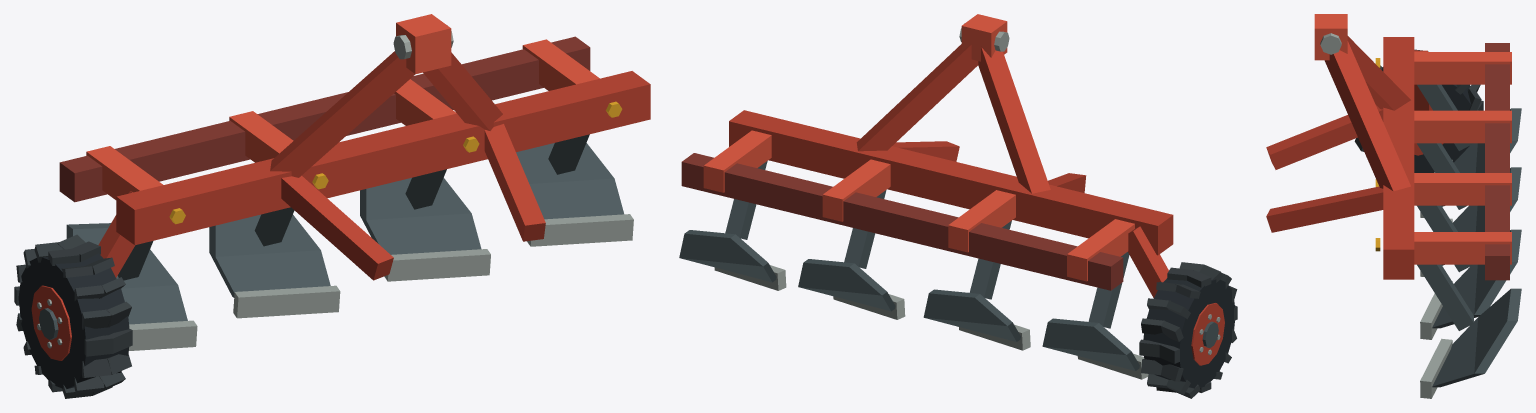
The model's file is plow.glb.
The picture shows the model from 3 angles, left to right: view 1: azimuth 30°, elevation 25°; view 2: azimuth 150°, elevation 25°; view 3: azimuth 270°, elevation 25°; orthographic projection. The views are drawn at different scales.
Visible parts, largest first — view 1: body__red.001, body__metal.004, body__red_dark.001, body__steel.002, body__red2.002, depth_wheel__tread, depth_wheel__rubber, depth_wheel__red, body__yellow.002; view 2: body__red.001, body__metal.004, body__red_dark.001, body__red2.002, depth_wheel__tread, depth_wheel__rubber, body__steel.002, depth_wheel__red; view 3: body__red.001, body__red2.002, body__metal.004, body__red_dark.001, body__steel.002, depth_wheel__rubber, depth_wheel__tread.
Part boxes in pixels (left/top/right/bottom): body__red.001: left=98, top=51, right=650, bottom=280; body__metal.004: left=66, top=134, right=623, bottom=324; body__red_dark.001: left=59, top=36, right=590, bottom=202; body__steel.002: left=129, top=25, right=633, bottom=350; body__red2.002: left=86, top=14, right=599, bottom=199; depth_wheel__tread: left=14, top=234, right=132, bottom=398; depth_wheel__rubber: left=18, top=253, right=129, bottom=388; depth_wheel__red: left=31, top=285, right=71, bottom=360; body__yellow.002: left=169, top=101, right=622, bottom=224; body__red.001: left=729, top=44, right=1173, bottom=297; body__metal.004: left=679, top=161, right=1139, bottom=370; body__red_dark.001: left=681, top=153, right=1123, bottom=290; body__red2.002: left=703, top=14, right=1134, bottom=281; depth_wheel__tread: left=1139, top=262, right=1237, bottom=398; depth_wheel__rubber: left=1143, top=278, right=1234, bottom=388; body__steel.002: left=714, top=23, right=1148, bottom=379; depth_wheel__red: left=1191, top=303, right=1224, bottom=365; body__red.001: left=1266, top=36, right=1429, bottom=279; body__red2.002: left=1314, top=14, right=1511, bottom=264; body__metal.004: left=1417, top=84, right=1521, bottom=387; body__red_dark.001: left=1485, top=43, right=1509, bottom=280; body__steel.002: left=1320, top=33, right=1452, bottom=398; depth_wheel__rubber: left=1381, top=67, right=1471, bottom=172; depth_wheel__tread: left=1354, top=49, right=1483, bottom=160.
Size of the model in its own units: 3.03 by 1.56 by 1.32.
